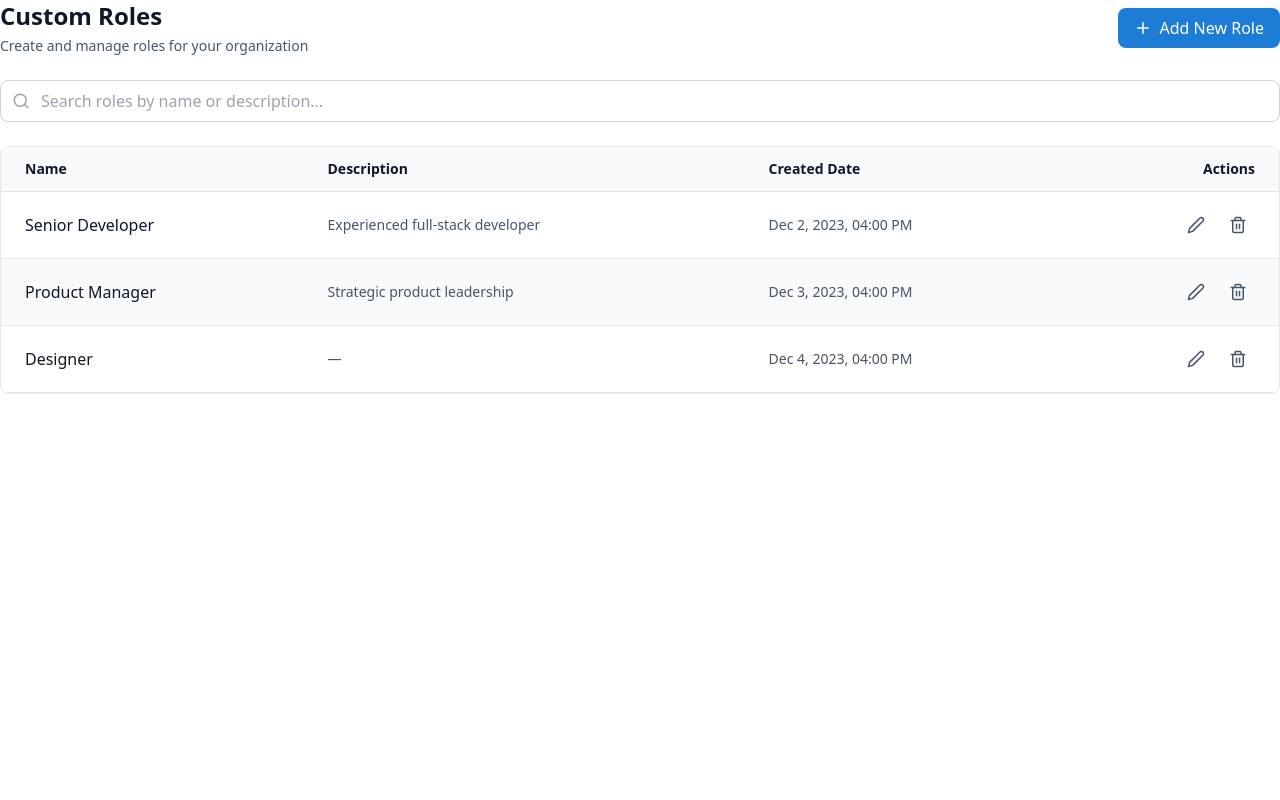
it: RoleManagementPanel › Edit Modal › pre-fills edit modal with current role data
Click the button named "Edit role Senior Developer" at (1196, 225), box [1179, 208, 1213, 242]
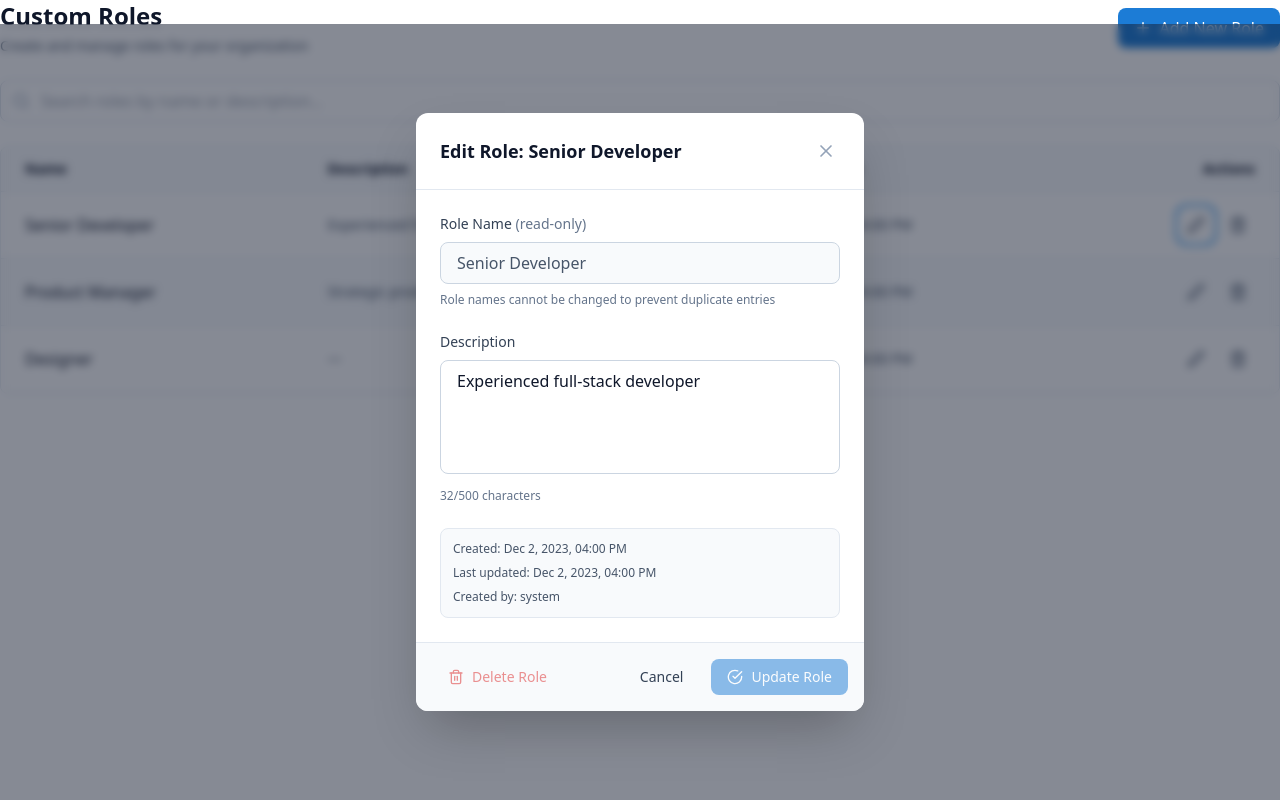
expect the field showing "Senior Developer" is shown: met, box [440, 242, 840, 284]
expect the text box showing "Experienced full-stack developer" is shown: met, box [440, 360, 840, 474]
